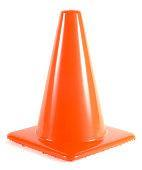Cone: (11, 10, 136, 158)
